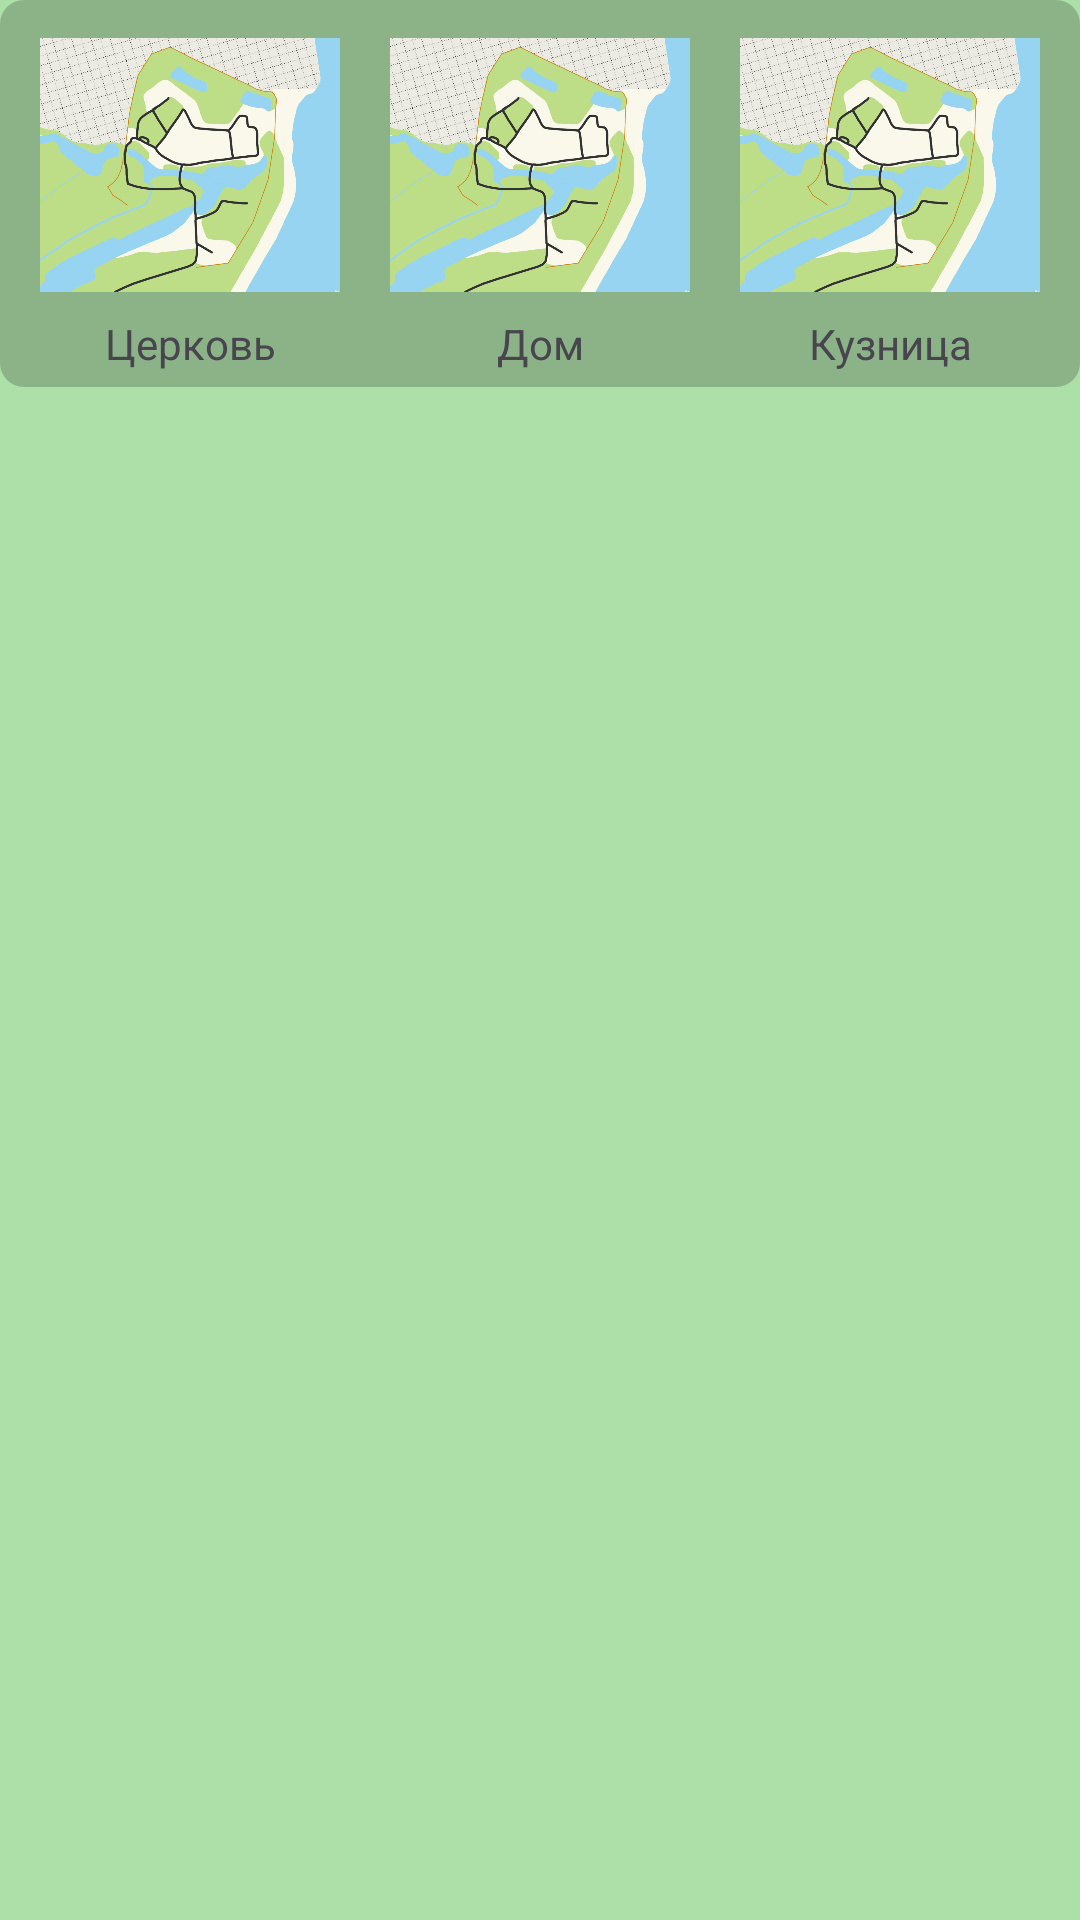

Point at icon controls on the screen. Image size 1080px×1920px, points as (x,y).
museum map: (190,165), (540,165), (890,165)
